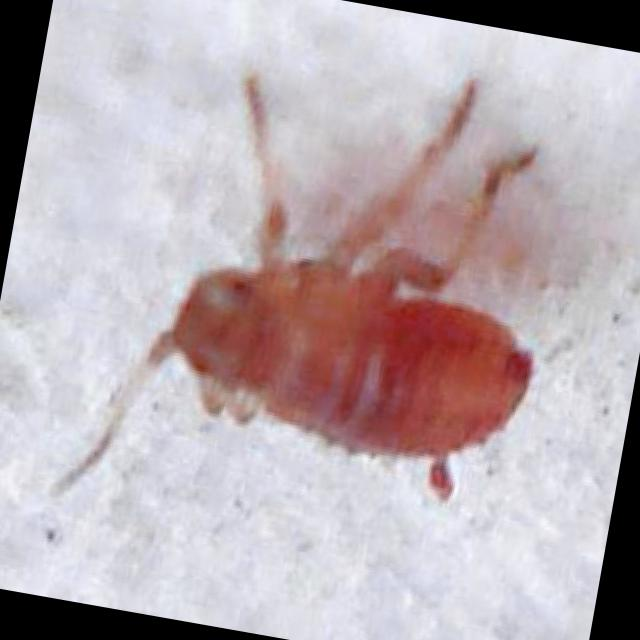aphid: (25, 0, 601, 590)
